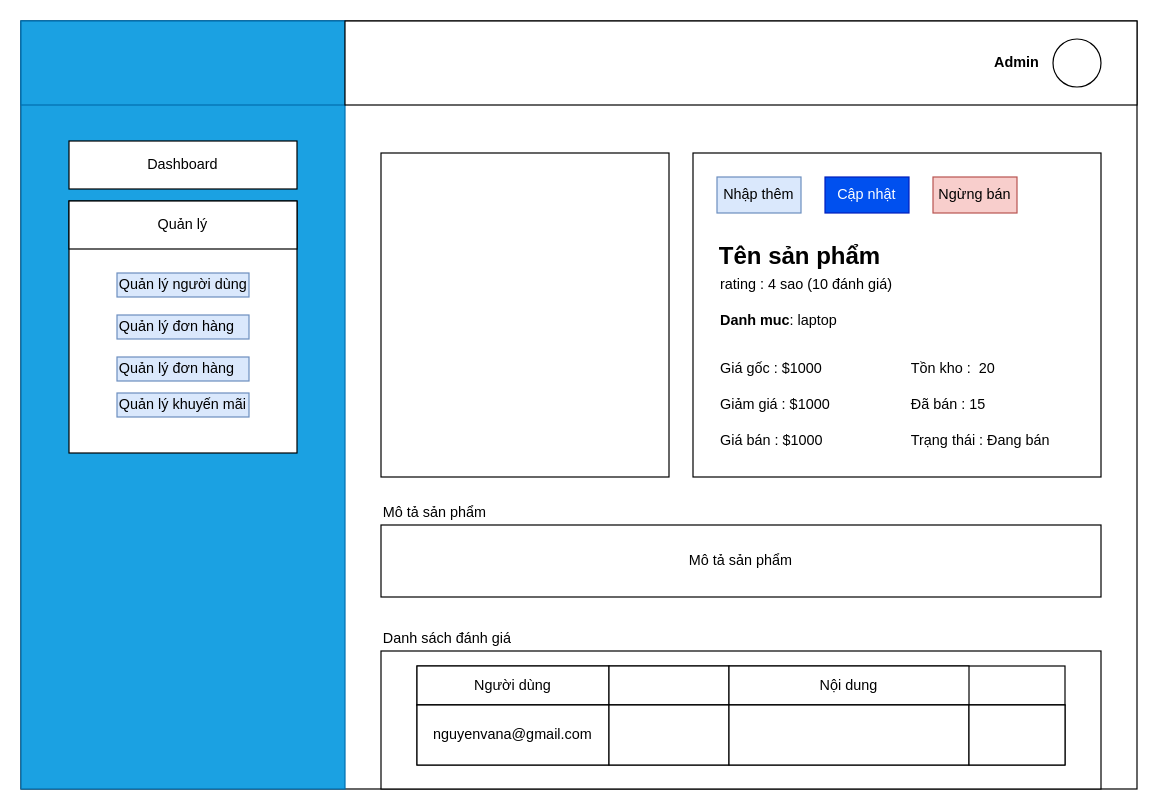
Image size: 1158x810. Some labels were removed from this diagram. Each missing label, with the centre of its shape:
"Chất lượng sản phẩm tốt" goes at point (848, 734).
"Hài lòng (4 sao)" goes at point (668, 734).
"Mức độ hài lòng" goes at point (668, 685).
"Trang quản trị" goes at point (182, 62).
"Xóa" goes at point (1016, 734).
"Ảnh sản phẩm" goes at point (524, 314).
